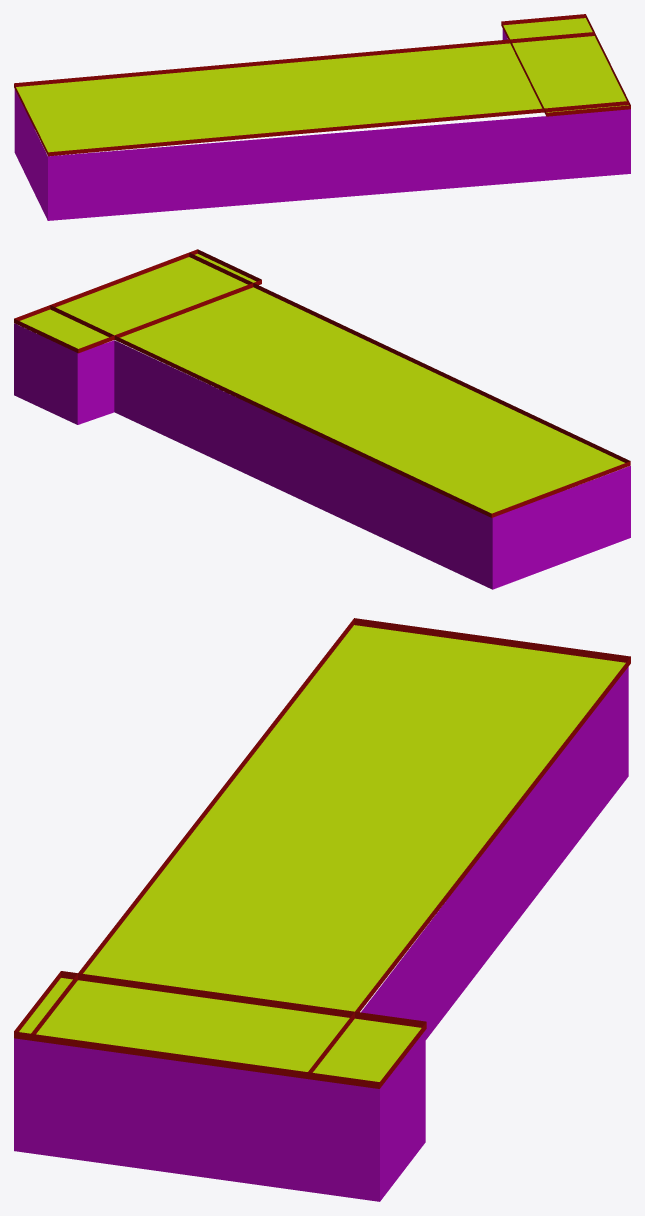
The model's file is bgj_95.glb.
3 views of the same model, one above another, from view 1: azimuth 30°, elevation 25°; view 2: azimuth 150°, elevation 25°; view 3: azimuth 270°, elevation 25° (orthographic). The views are drawn at different scales.
Parts seen in each view (by area): view 1: bgj_95; view 2: bgj_95; view 3: bgj_95.
Part boxes in pixels (<box>): bgj_95: <box>14,14,630,220</box>; bgj_95: <box>14,249,630,589</box>; bgj_95: <box>14,618,630,1201</box>.
Size of the model in its own units: 50.02 by 6.01 by 28.09.
